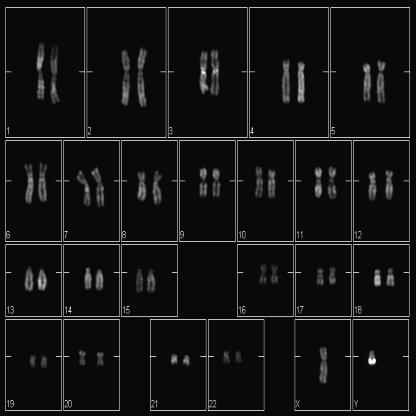1: (34, 38, 48, 103), (48, 38, 61, 104)
10: (252, 160, 266, 204), (266, 160, 280, 204)
11: (324, 160, 340, 201), (310, 161, 324, 202)
12: (366, 166, 378, 208), (383, 166, 395, 208)
13: (22, 262, 36, 292), (35, 262, 48, 292)
14: (82, 262, 94, 293), (92, 262, 104, 292)
15: (145, 264, 156, 296), (134, 263, 144, 294)
16: (268, 258, 282, 288), (256, 260, 269, 289)
17: (313, 263, 326, 290), (326, 263, 339, 290)
18: (370, 265, 386, 291), (385, 264, 401, 290)
19: (37, 346, 50, 376), (25, 346, 38, 375)
2: (118, 46, 132, 108), (135, 46, 148, 108)
20: (77, 341, 88, 372), (96, 342, 106, 373)
21: (166, 350, 182, 370), (182, 350, 198, 370)
22: (219, 346, 232, 368), (232, 346, 245, 368)
3: (198, 42, 210, 102), (210, 42, 221, 102)
4: (278, 53, 292, 108), (294, 53, 308, 108)
5: (360, 54, 373, 107), (374, 54, 386, 107)
6: (36, 156, 51, 207), (22, 156, 36, 207)
7: (92, 163, 114, 209), (72, 164, 92, 208)
8: (133, 166, 149, 210), (150, 166, 166, 209)
9: (196, 162, 208, 204), (210, 162, 221, 204)
X: (316, 342, 330, 388)
Y: (365, 344, 380, 369)
